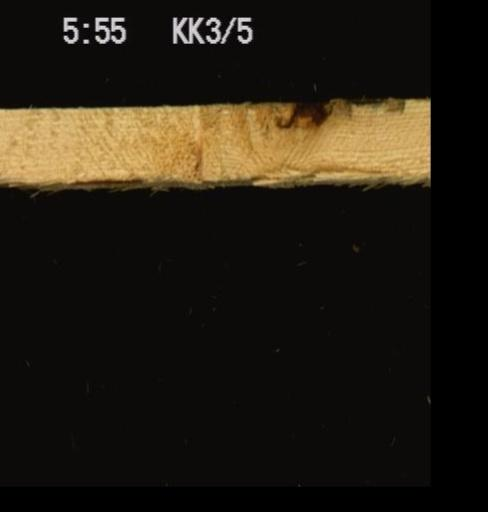edge_knot: (269, 99, 334, 133)
